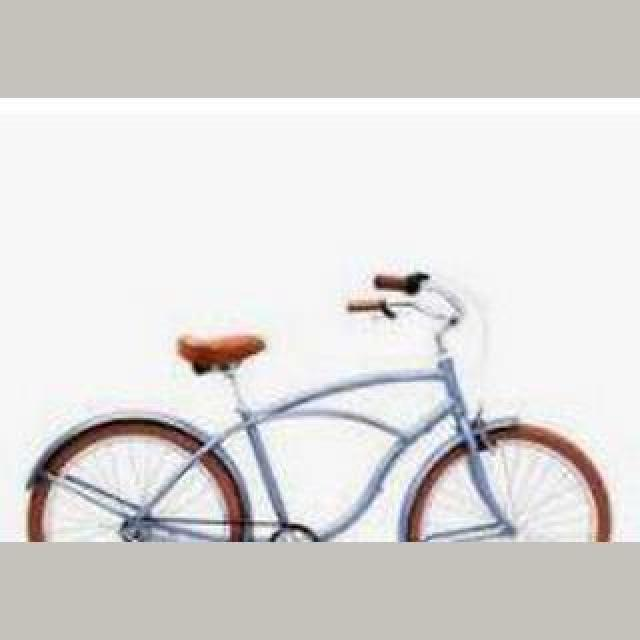Person: (21, 261, 631, 539)
